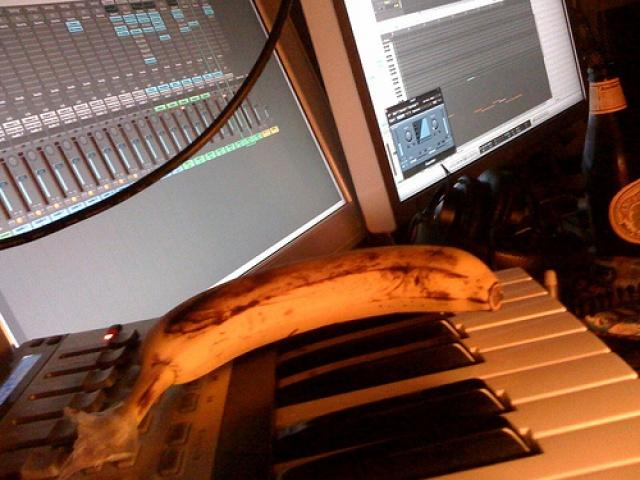AIO PC-Monitor-TV: (297, 0, 590, 241)
